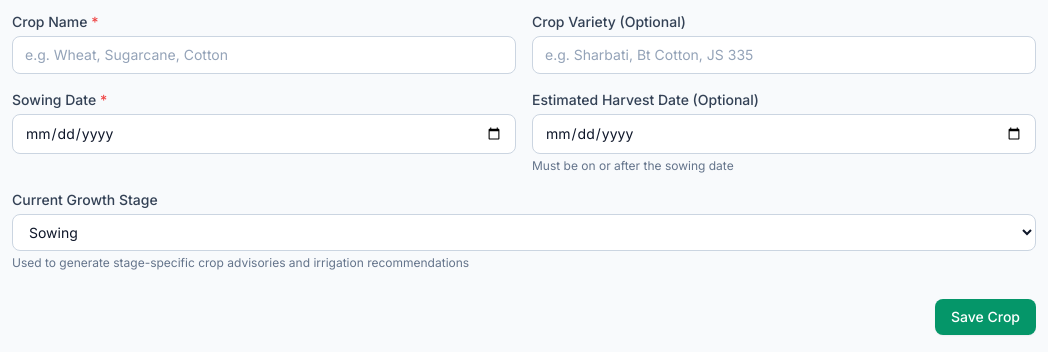
Scenario: Frontend Crop Management Component Tests (Feature 3) › Crop.Validate: rejects harvest_date earlier than sowing_date
In the field labelled "Crop Name *": [264, 55] box [12,36,516,74], type "Wheat"
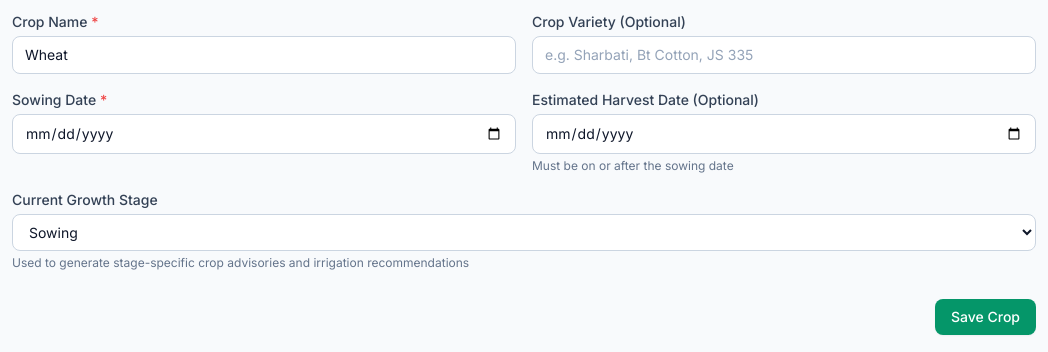
In the date field labelled "Sowing Date *": [264, 134] box [12,114,516,154], type "2026-06-01"
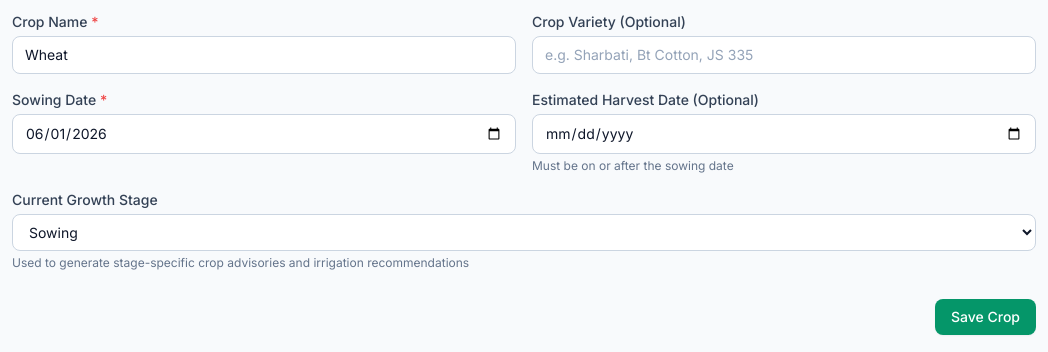
In the date field labelled "Estimated Harvest Date (Optional)": [784, 134] box [532,114,1036,154], type "2026-05-01"
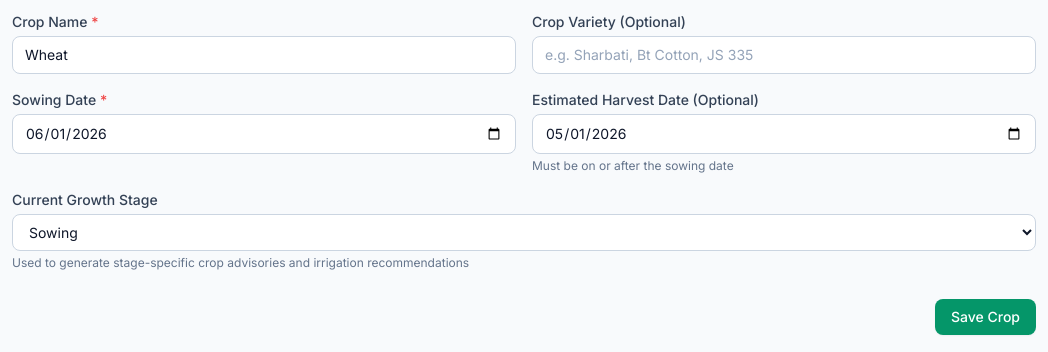
Click the button "Save Crop": [986, 317] box [935,299,1036,335]
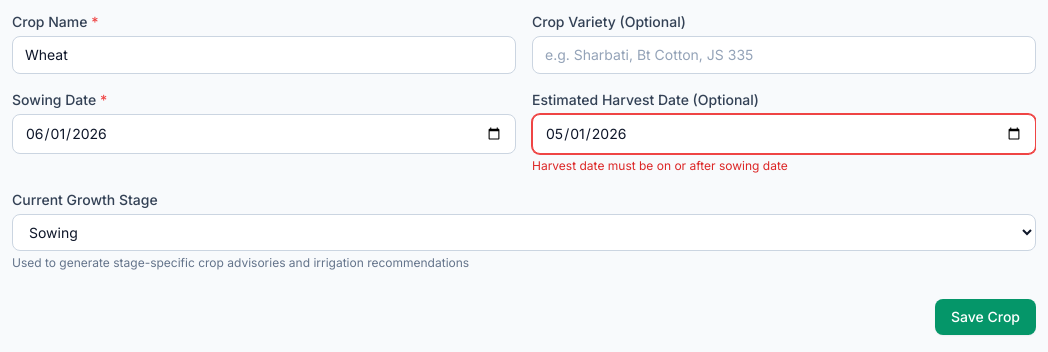
Result: the text "Harvest date must be on or after sowing date" is shown at [532,158,788,173]
